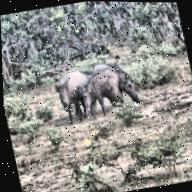boar: (70, 61, 129, 117), (99, 51, 148, 111), (51, 68, 95, 123)
